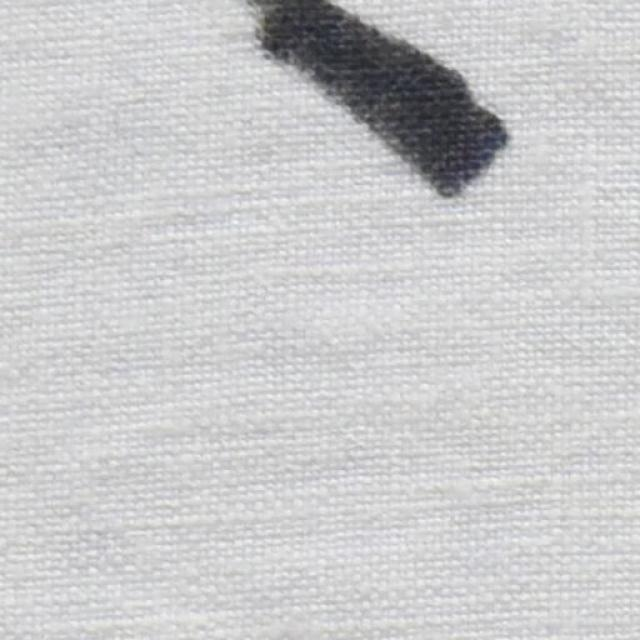Stain: (250, 0, 509, 196)
